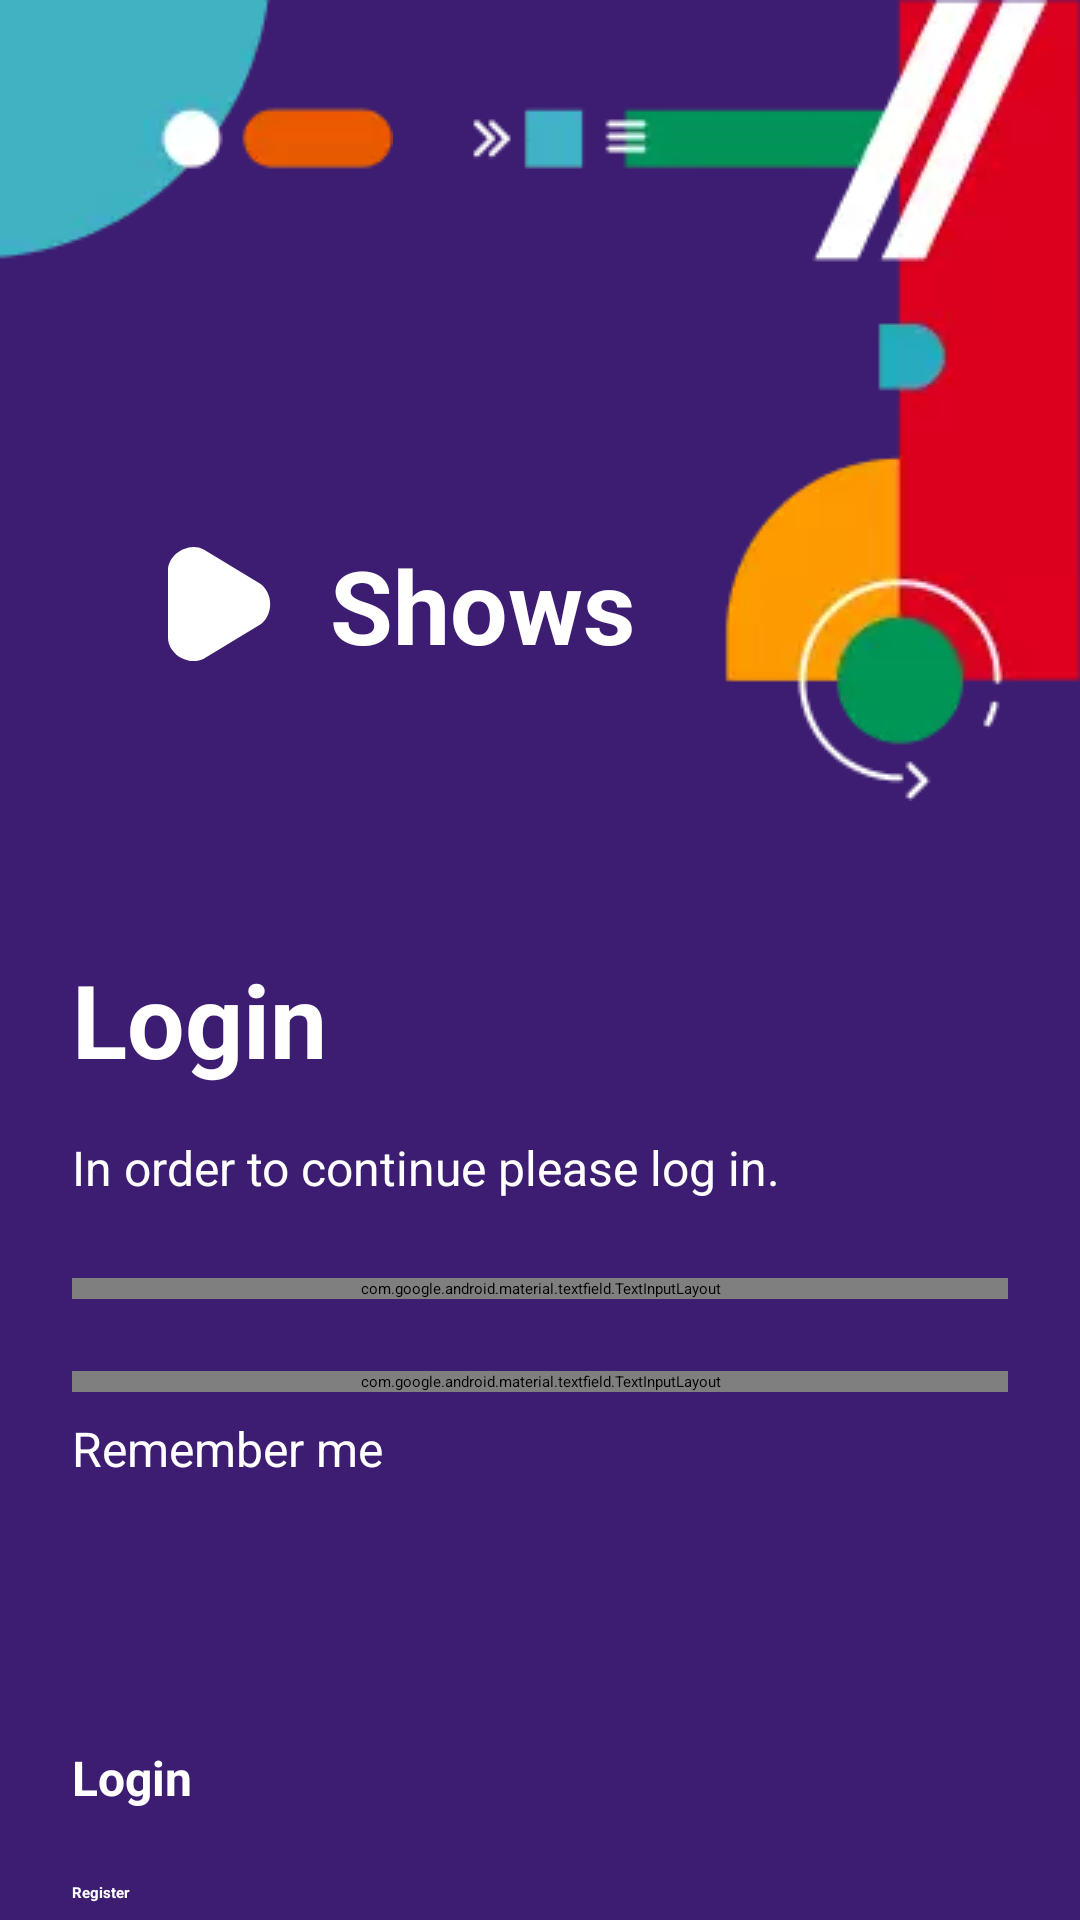

Locate icon controls on the screen. Image size 1080 × 1920, boxes as (x1,y1,x2,y2).
Play button: (168,547,271,661)
